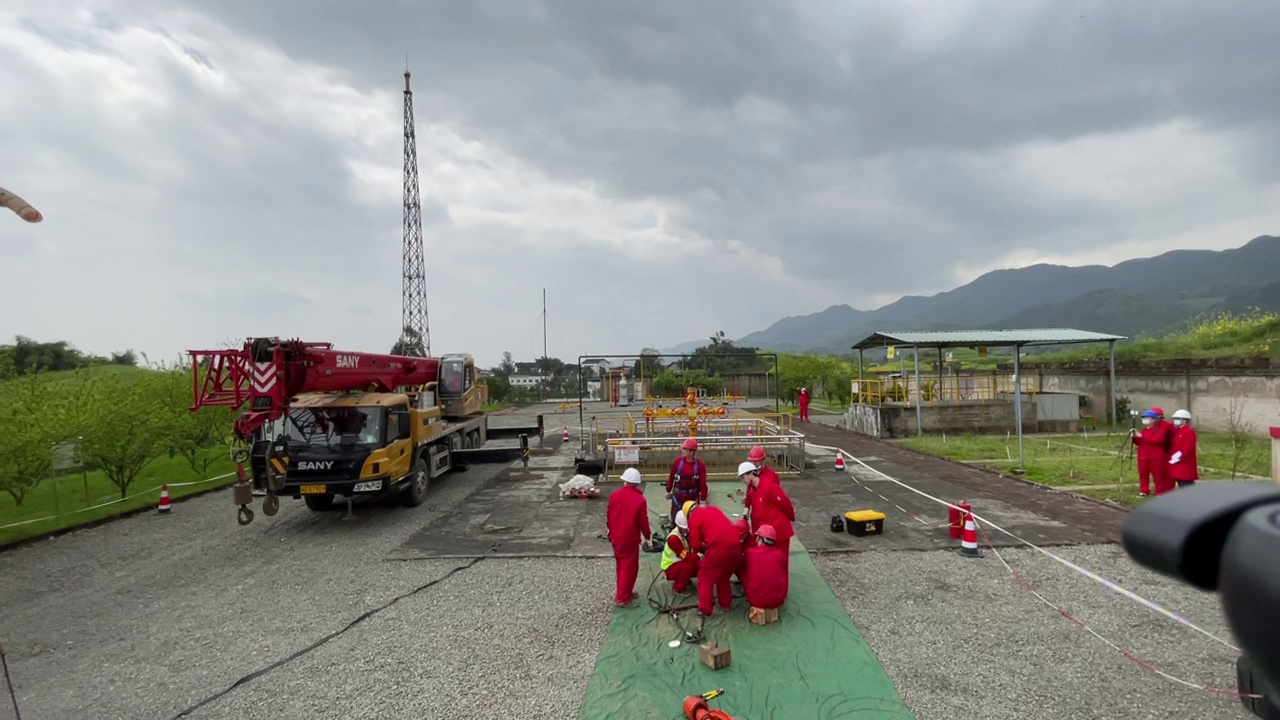helmet: (617, 466, 643, 488), (755, 522, 777, 544), (735, 462, 758, 481), (679, 437, 702, 454), (682, 499, 703, 517), (749, 445, 768, 463), (677, 510, 691, 533), (1171, 409, 1192, 424), (1138, 410, 1160, 423), (1146, 405, 1166, 419), (800, 387, 809, 394)
person: (732, 461, 795, 617), (679, 502, 746, 615), (606, 466, 653, 606), (1132, 410, 1175, 502), (745, 528, 788, 612), (661, 511, 702, 594), (666, 438, 712, 506), (1168, 409, 1201, 493), (745, 443, 784, 486), (797, 384, 813, 426)
